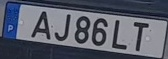6: (91, 17, 108, 47)
8: (73, 14, 91, 44)
A: (29, 10, 51, 40)
J: (53, 13, 71, 42)
L: (111, 19, 128, 50)
T: (132, 21, 149, 51)
